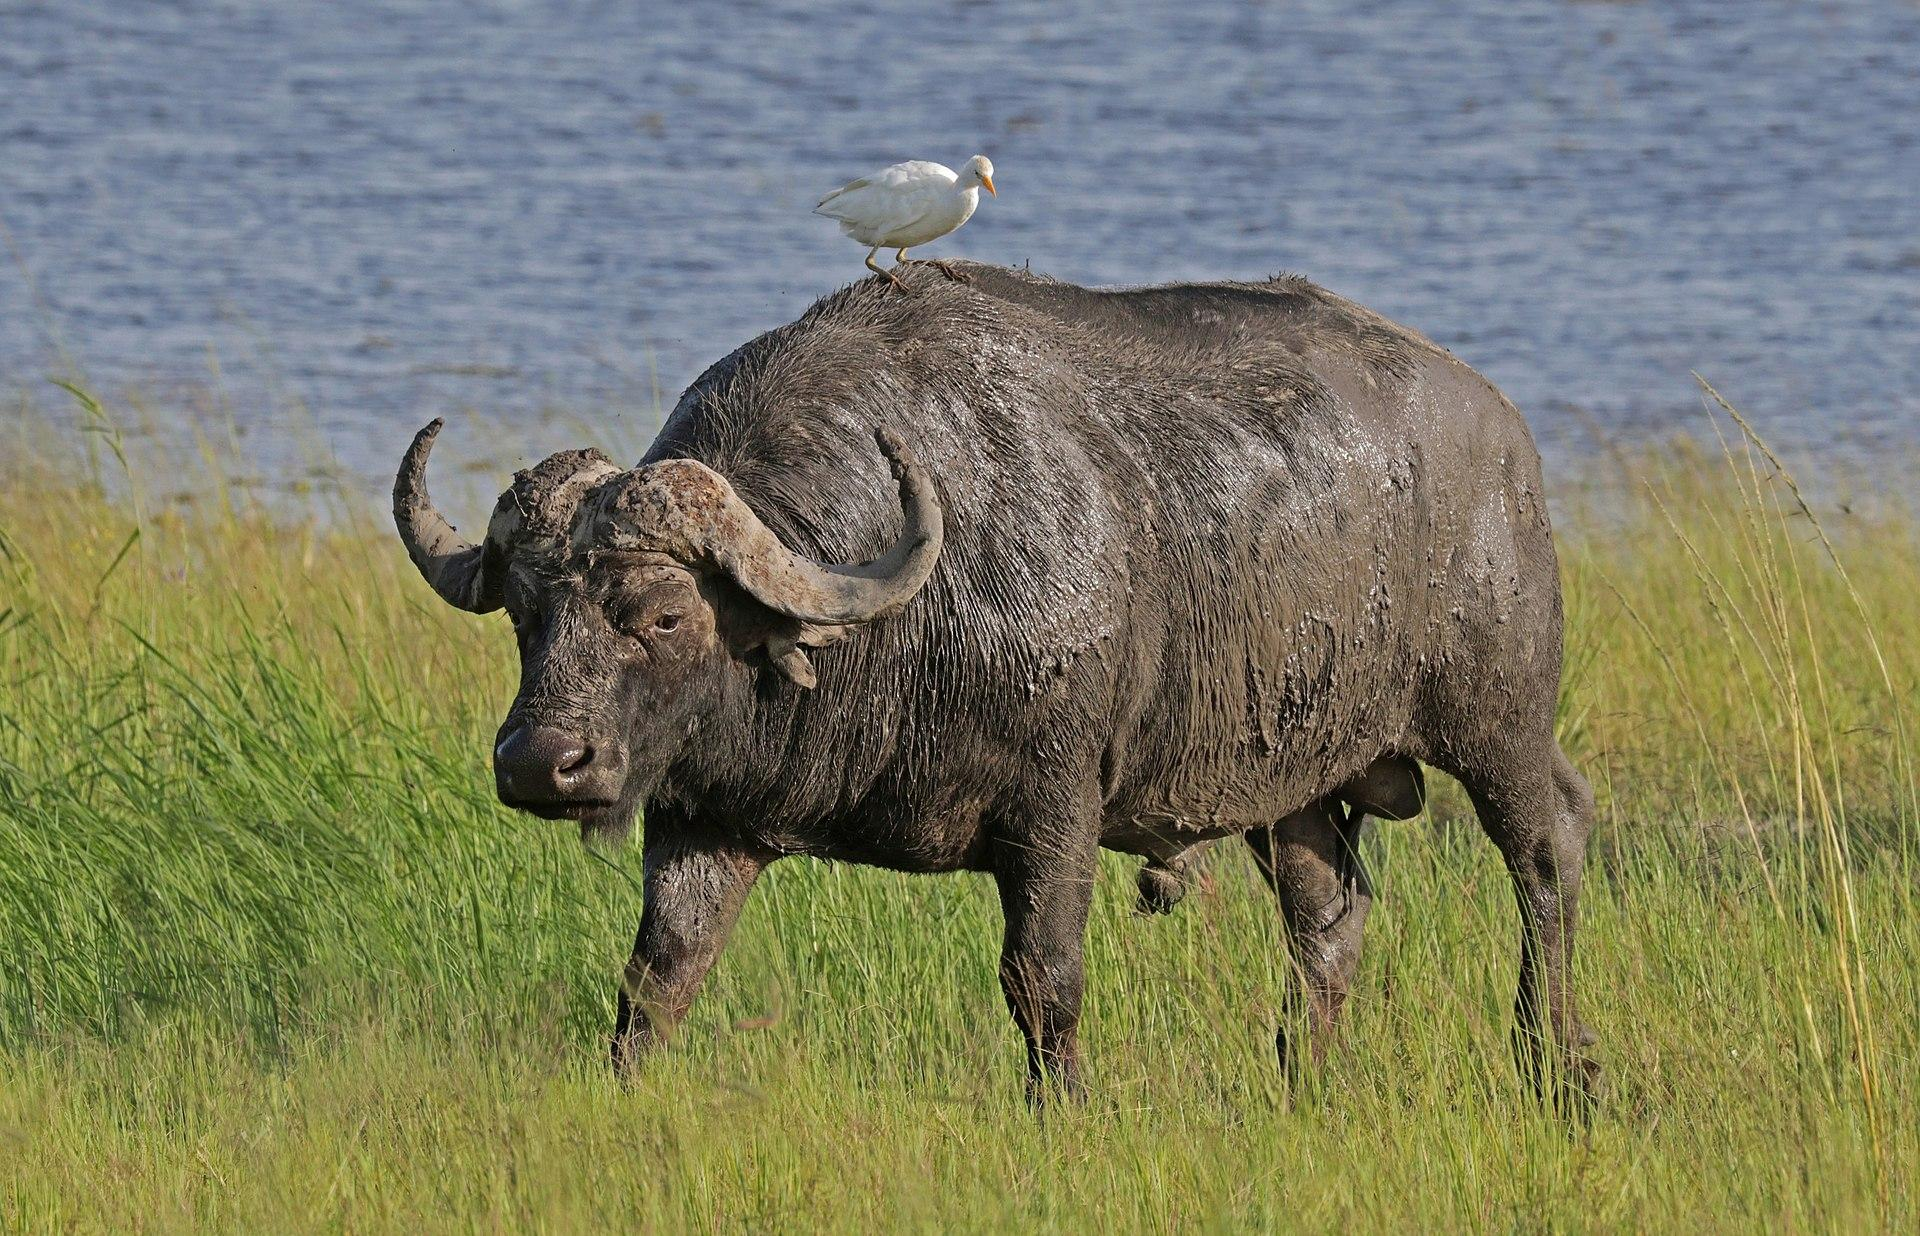Buffalo: (90, 24, 1611, 1236)
